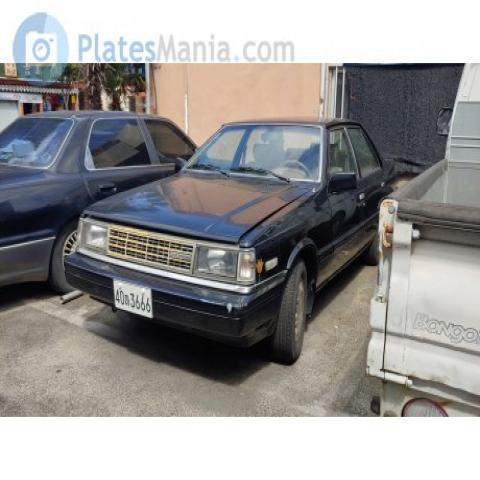LP: (97, 269, 168, 327)
